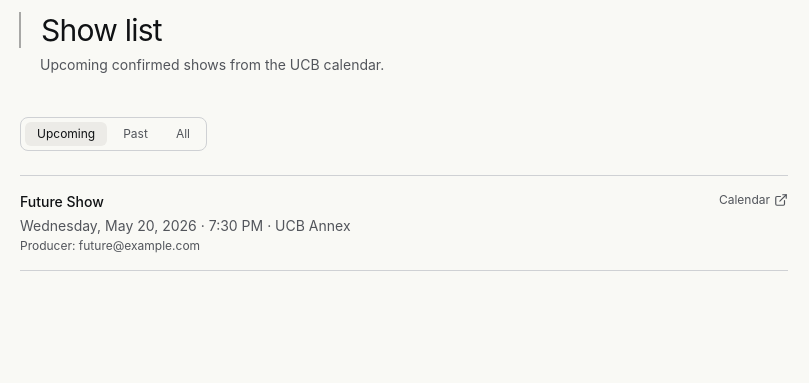
ShowListApp › renders upcoming shows by default and switches filters
Check: the heading "Future Show" is shown, box [20, 193, 104, 210]
Check: the text "Past Show" is not shown
Step 1. Click the tab "Past" → (136, 134), box [111, 122, 160, 146]
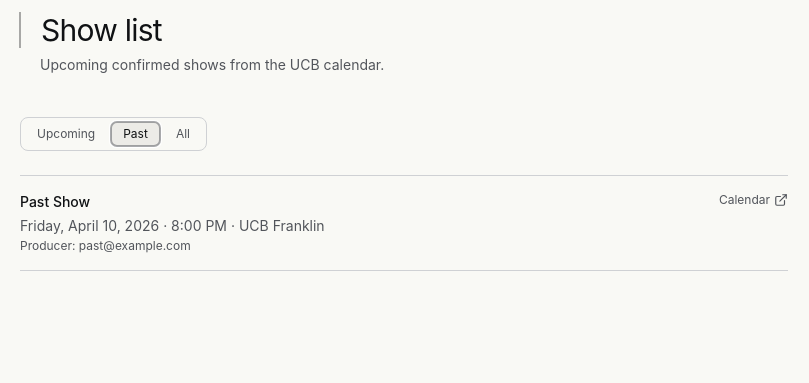
Check: the heading "Past Show" is shown, box [20, 193, 90, 210]
Check: the heading "Future Show" is gone
Step 2. Click the tab "All" → (183, 134), box [164, 122, 202, 146]
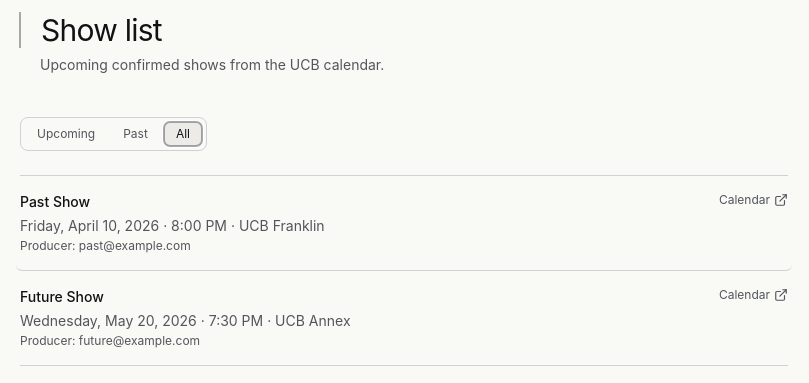
Check: the heading "Past Show" is shown, box [20, 193, 90, 210]
Check: the heading "Future Show" is shown, box [20, 288, 104, 305]
